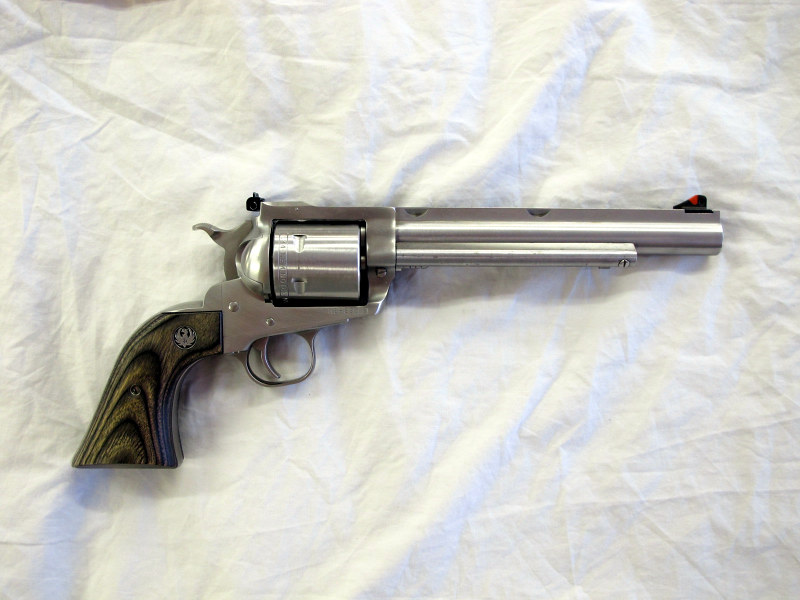gun: (68, 180, 728, 509)
